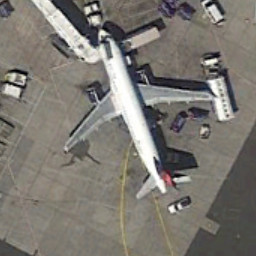Airplane: (59, 25, 219, 208)
